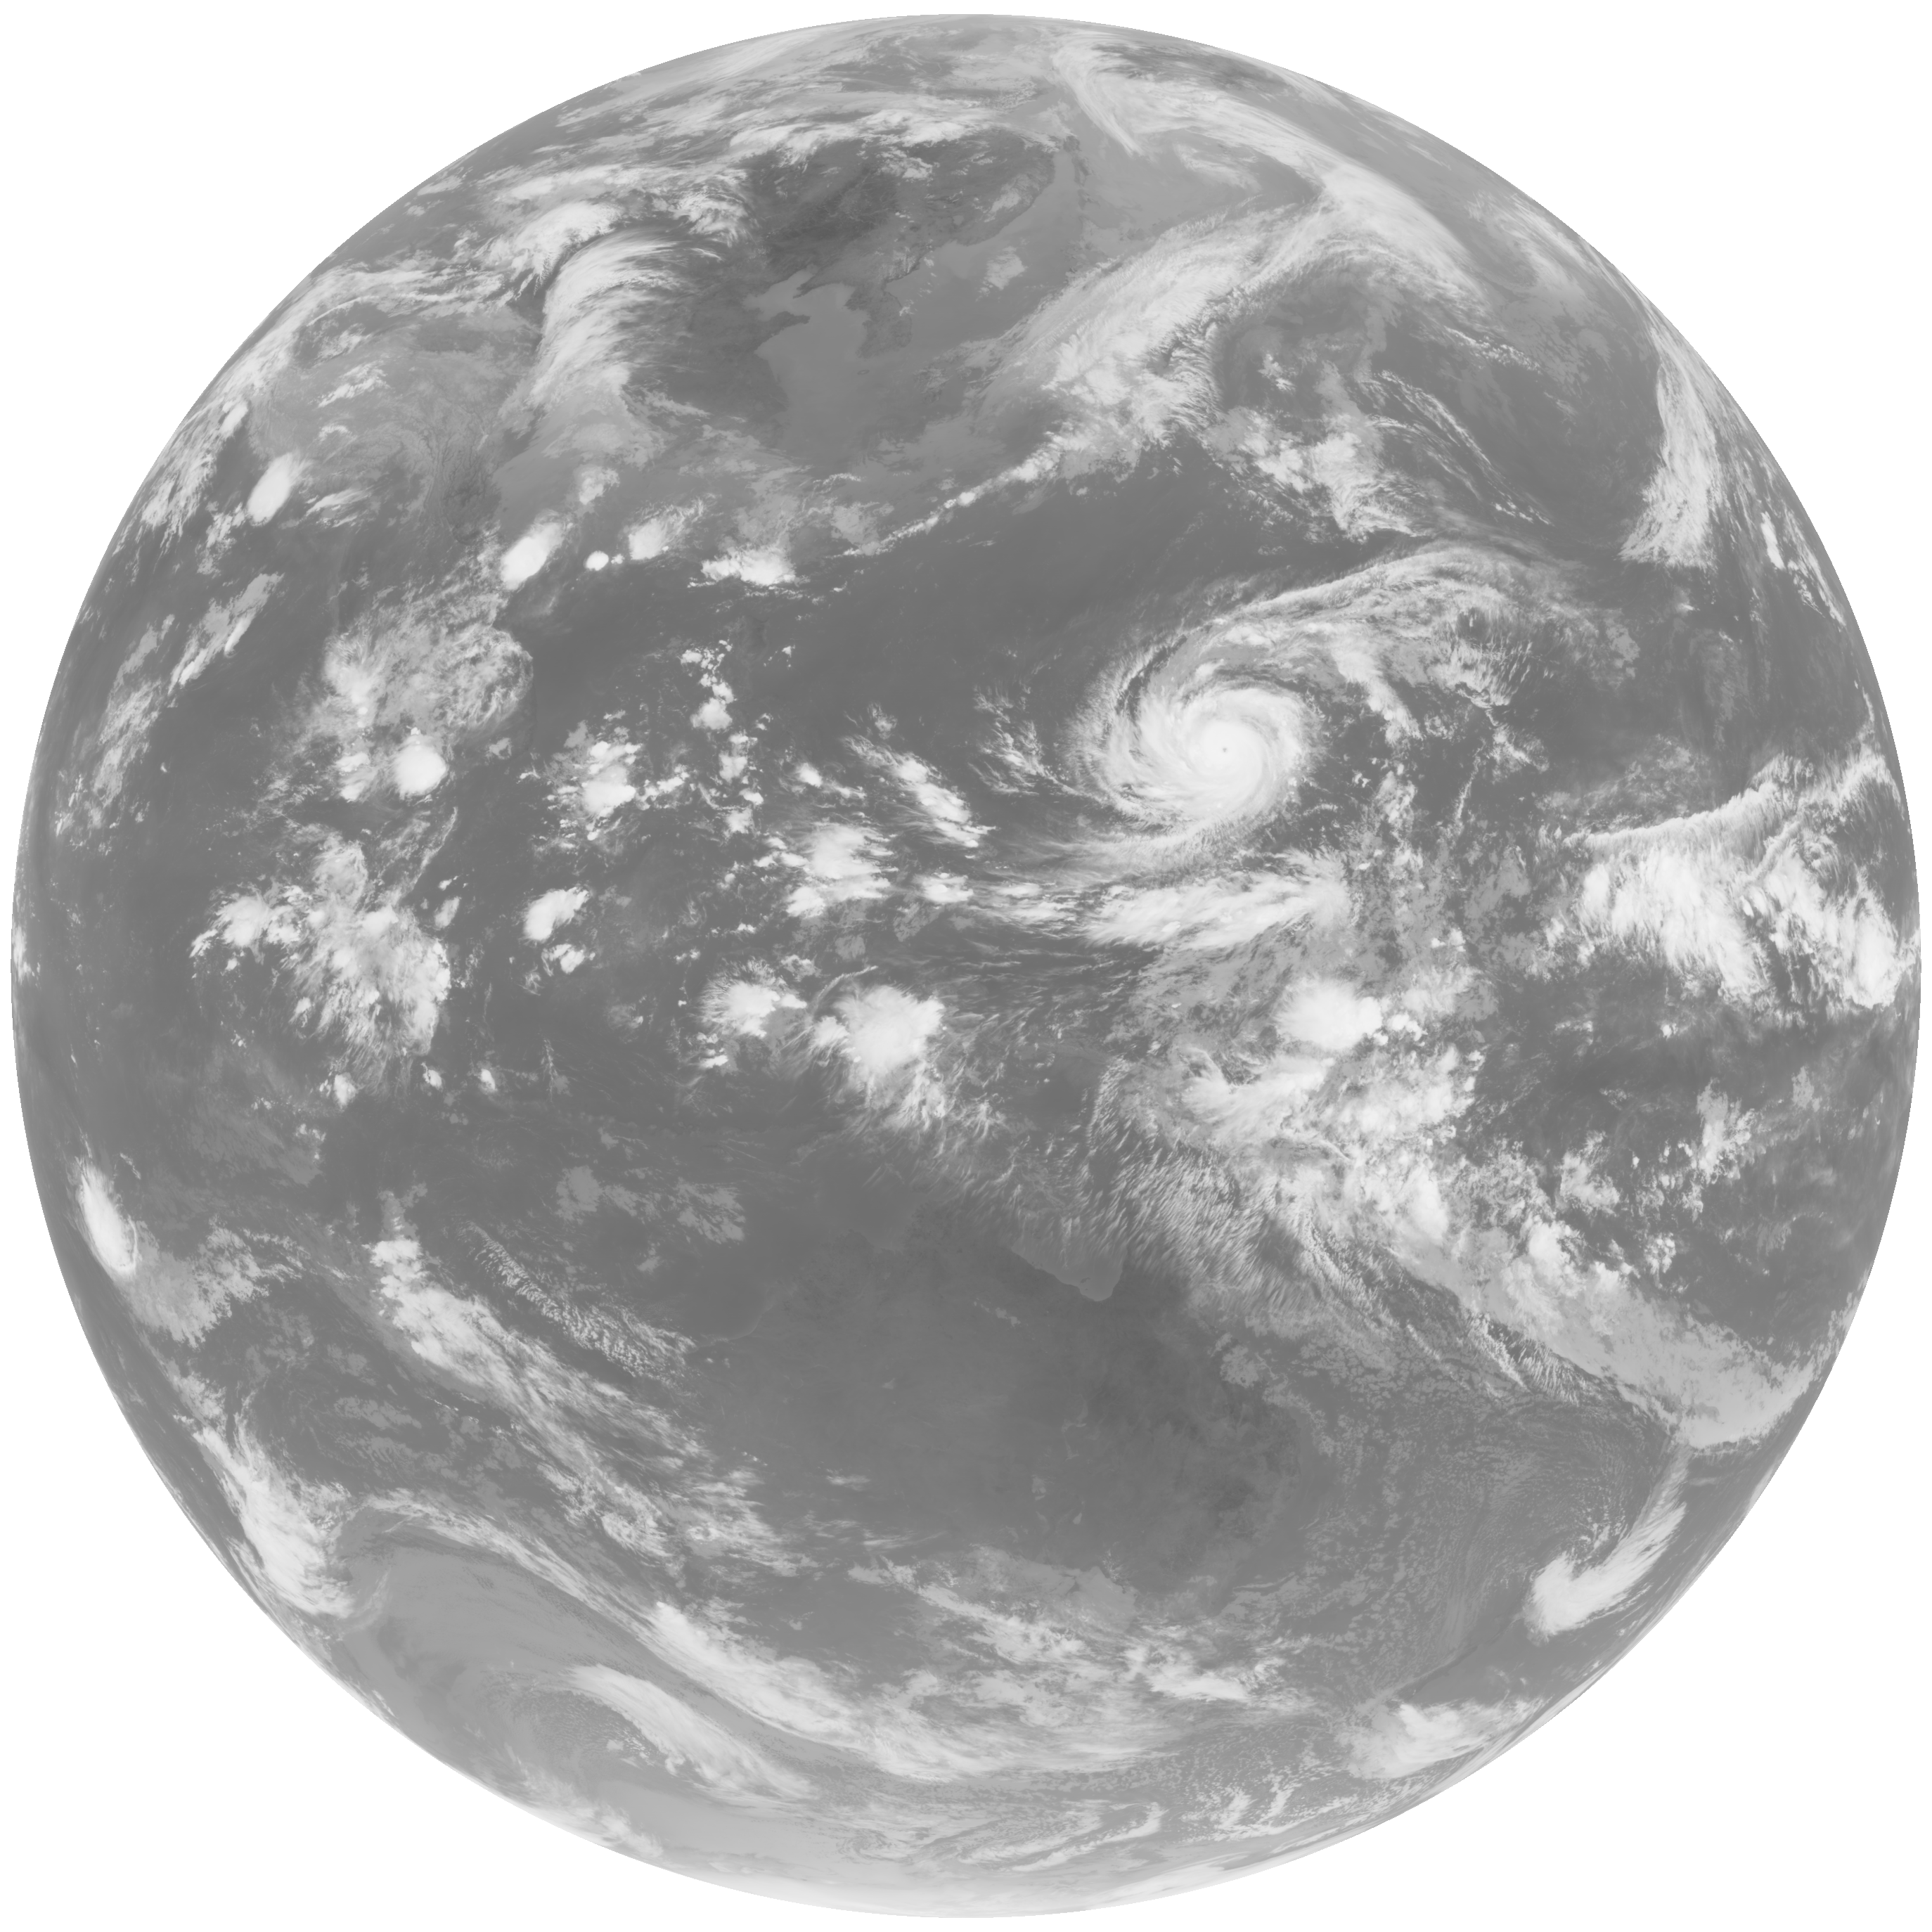typhoon: (962, 534, 1541, 885)
